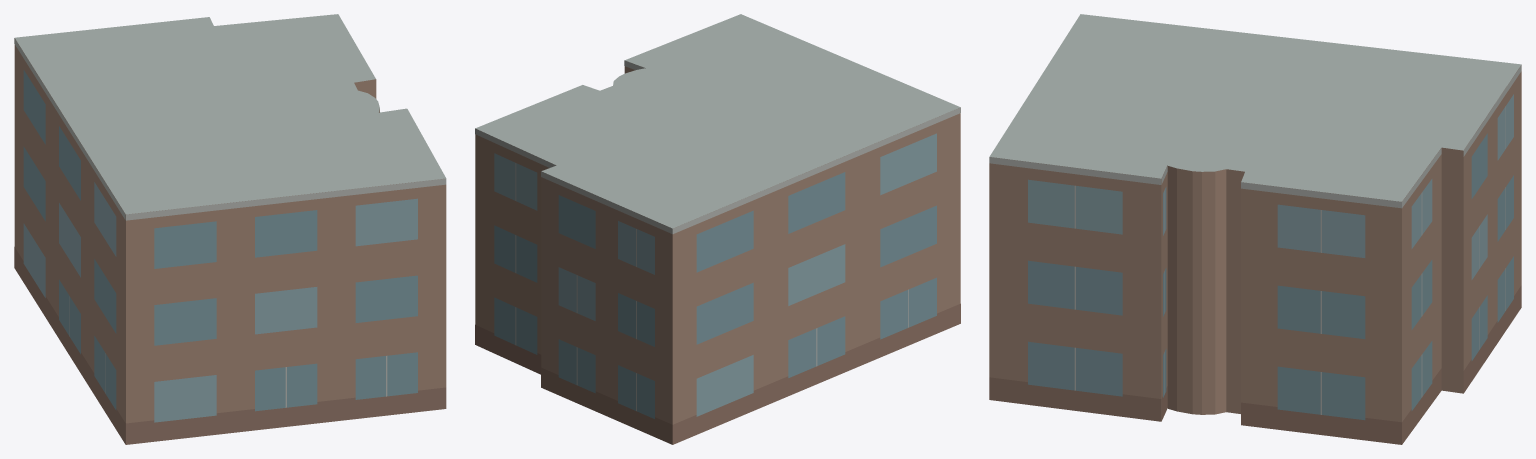
Rendered from survey-upis-32655038.glb.
The picture shows the model from 3 angles, left to right: view 1: azimuth 30°, elevation 25°; view 2: azimuth 150°, elevation 25°; view 3: azimuth 270°, elevation 25°; orthographic projection. The views are drawn at different scales.
Parts seen in each view (by area): view 1: survey-upis-32655038.tmp; view 2: survey-upis-32655038.tmp; view 3: survey-upis-32655038.tmp.
Part boxes in pixels (x1,y1,x2,y2): survey-upis-32655038.tmp: (14,14,446,444); survey-upis-32655038.tmp: (475,14,960,444); survey-upis-32655038.tmp: (989,14,1521,444).
Size of the model in its own units: 15.17 by 9.15 by 18.17.
